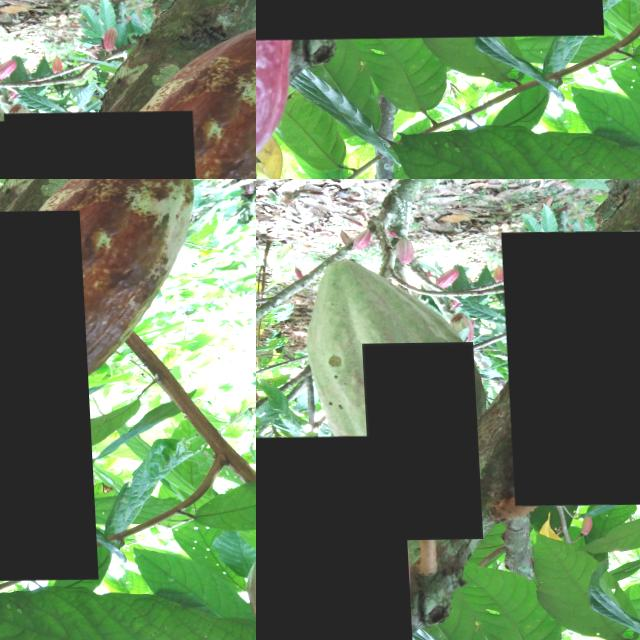Fitoftora: (500, 230, 640, 507), (0, 212, 92, 583), (360, 343, 479, 541), (2, 112, 203, 179)
Monilia: (256, 0, 599, 41)
Sana: (256, 436, 411, 640), (302, 259, 425, 339)
